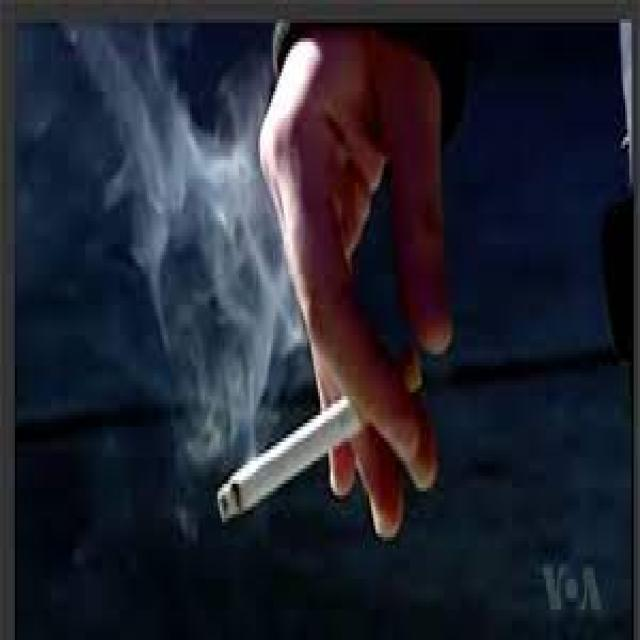rokok: (212, 386, 396, 518)
